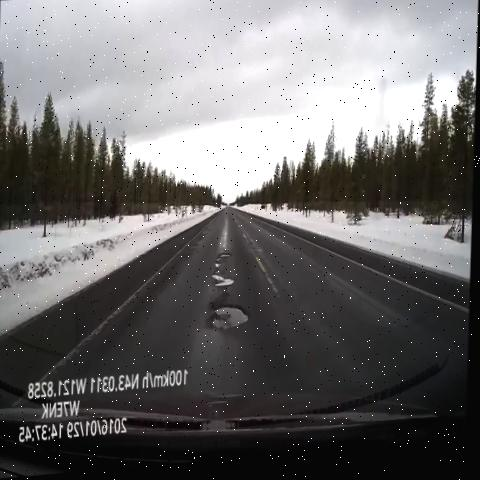pothole: (206, 293, 253, 346), (206, 251, 242, 302)
